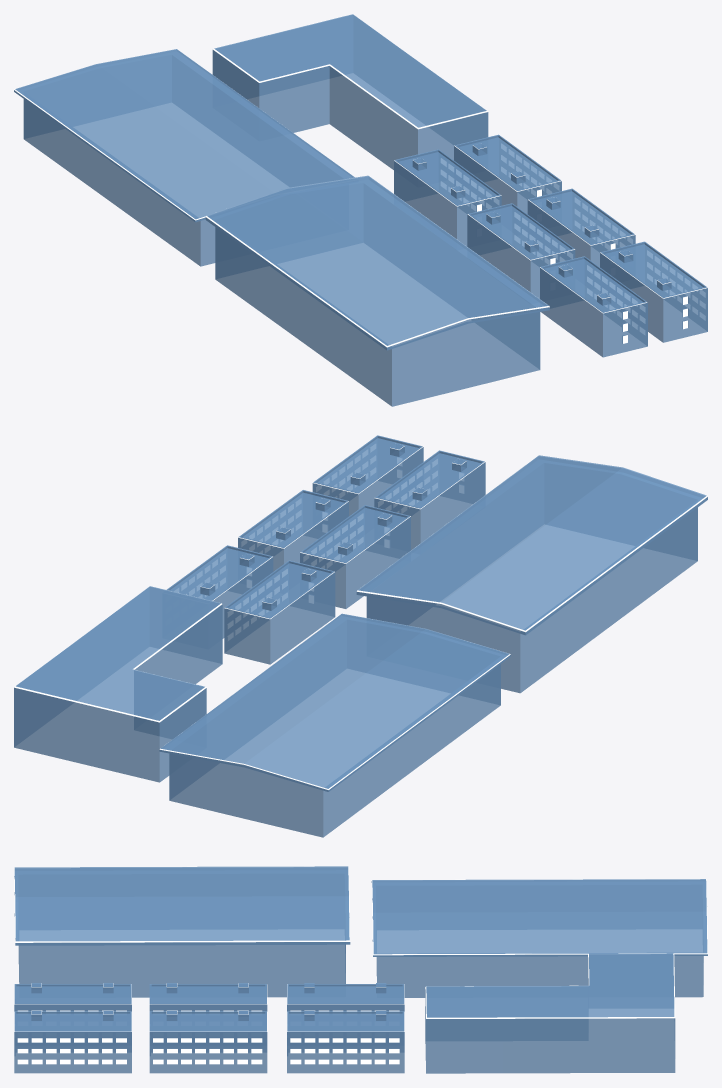
File: building.glb
3 views of the same model, one above another, from view 1: azimuth 30°, elevation 25°; view 2: azimuth 150°, elevation 25°; view 3: azimuth 270°, elevation 25° (orthographic). The views are drawn at different scales.
Parts seen in each view (by area): view 1: Waijinzhu; view 2: Waijinzhu; view 3: Waijinzhu.
Boxes of the visible parts, bbox=[...] form: Waijinzhu: bbox=[14, 14, 707, 406]; Waijinzhu: bbox=[14, 435, 707, 837]; Waijinzhu: bbox=[14, 866, 707, 1073].
Size of the model in its own units: 26.55 by 5.62 by 52.71.
